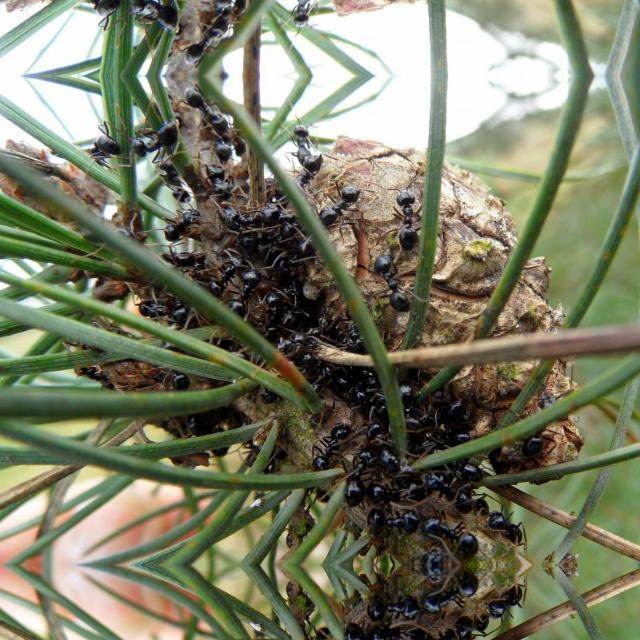Lasius: (124, 108, 190, 164), (378, 238, 422, 318), (416, 512, 492, 558), (416, 572, 492, 616), (295, 413, 349, 472), (392, 182, 432, 258), (145, 147, 193, 205), (124, 0, 190, 42), (311, 180, 361, 232), (190, 82, 240, 134), (190, 16, 240, 68), (338, 440, 378, 504), (286, 143, 336, 185), (256, 286, 288, 344), (202, 254, 244, 296), (488, 584, 538, 618), (488, 512, 538, 544), (161, 203, 209, 235), (372, 503, 422, 533), (372, 596, 422, 626), (233, 268, 257, 329), (89, 123, 123, 165), (198, 158, 236, 194), (212, 118, 240, 158), (232, 204, 280, 226), (288, 122, 314, 156), (89, 0, 123, 26), (212, 0, 238, 32), (287, 0, 312, 26), (338, 624, 377, 640)
